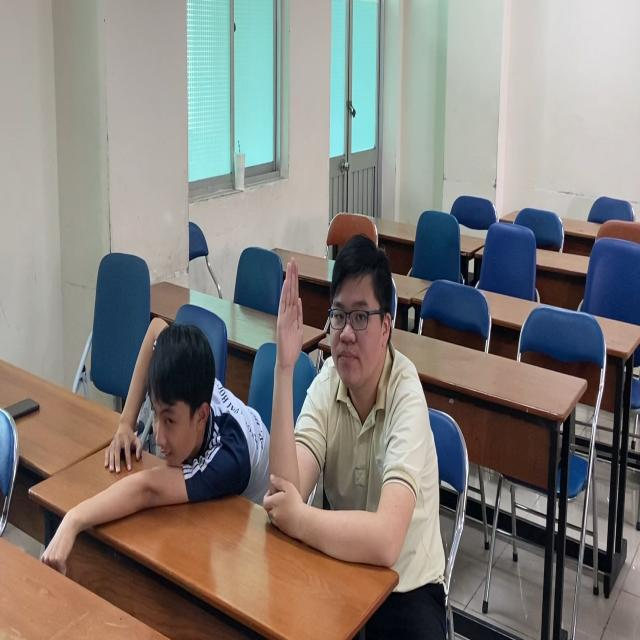raise_hand: (267, 242, 431, 564)
